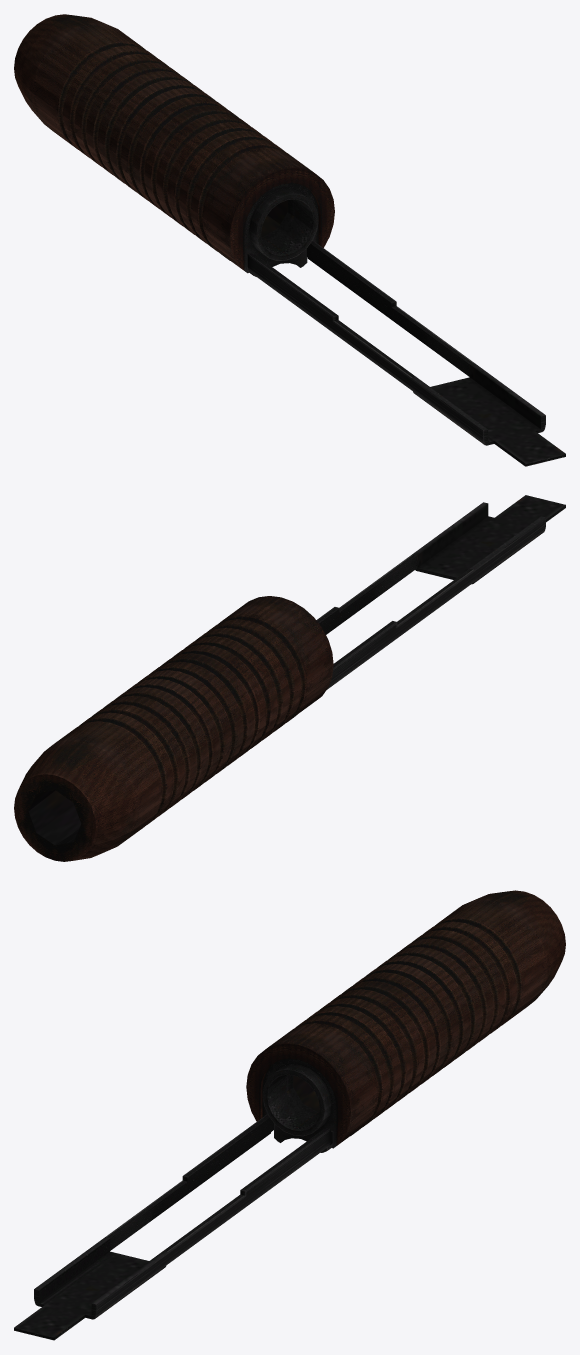
The picture shows the model from 3 angles, top to bottom: view 1: azimuth 30°, elevation 25°; view 2: azimuth 150°, elevation 25°; view 3: azimuth 330°, elevation 25°; orthographic projection.
Parts seen in each view (by area): view 1: TW_55d45d3f4bdc2d972f8b456c_PZ_Import; view 2: TW_55d45d3f4bdc2d972f8b456c_PZ_Import; view 3: TW_55d45d3f4bdc2d972f8b456c_PZ_Import.
Part boxes in pixels (left/top/right/bottom): TW_55d45d3f4bdc2d972f8b456c_PZ_Import: left=14, top=14, right=565, bottom=466; TW_55d45d3f4bdc2d972f8b456c_PZ_Import: left=14, top=495, right=565, bottom=861; TW_55d45d3f4bdc2d972f8b456c_PZ_Import: left=14, top=890, right=565, bottom=1340.
Bounding box in the file's own units: 0.027 × 0.2191 × 0.026.
Materials: 1 (1 with a texture image).
